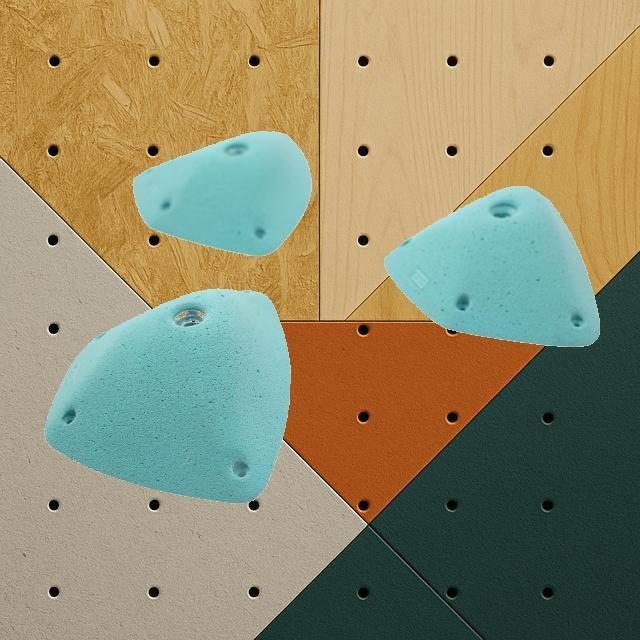Sloper: (43, 286, 291, 504), (382, 183, 600, 347), (130, 128, 312, 256)
